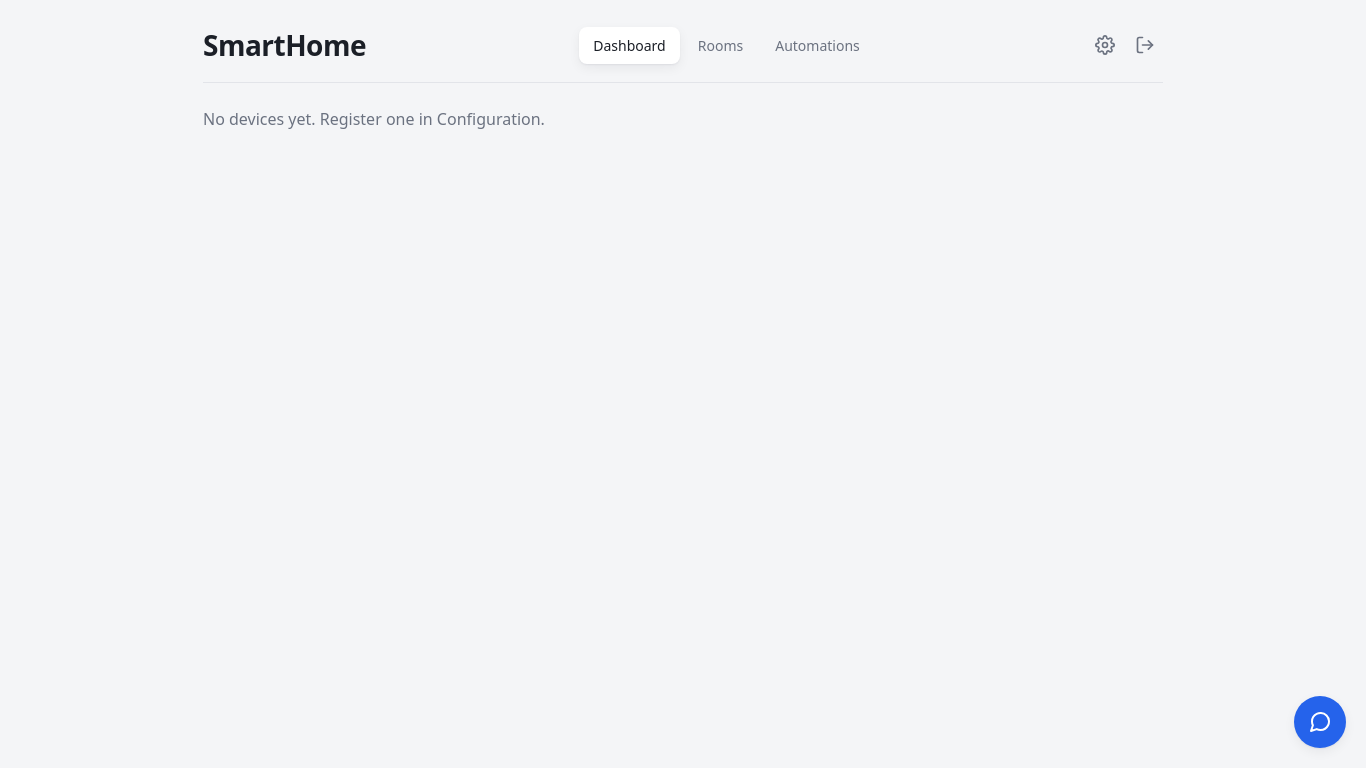
Test: App › navigates to the rooms view
The image size is (1366, 768).
Expected: the text "No devices yet. Register one in Configuration." is shown, x1=203 y1=108 x2=545 y2=130
Click the link "Rooms" at [720, 45], box x1=698 y1=36 x2=743 y2=54
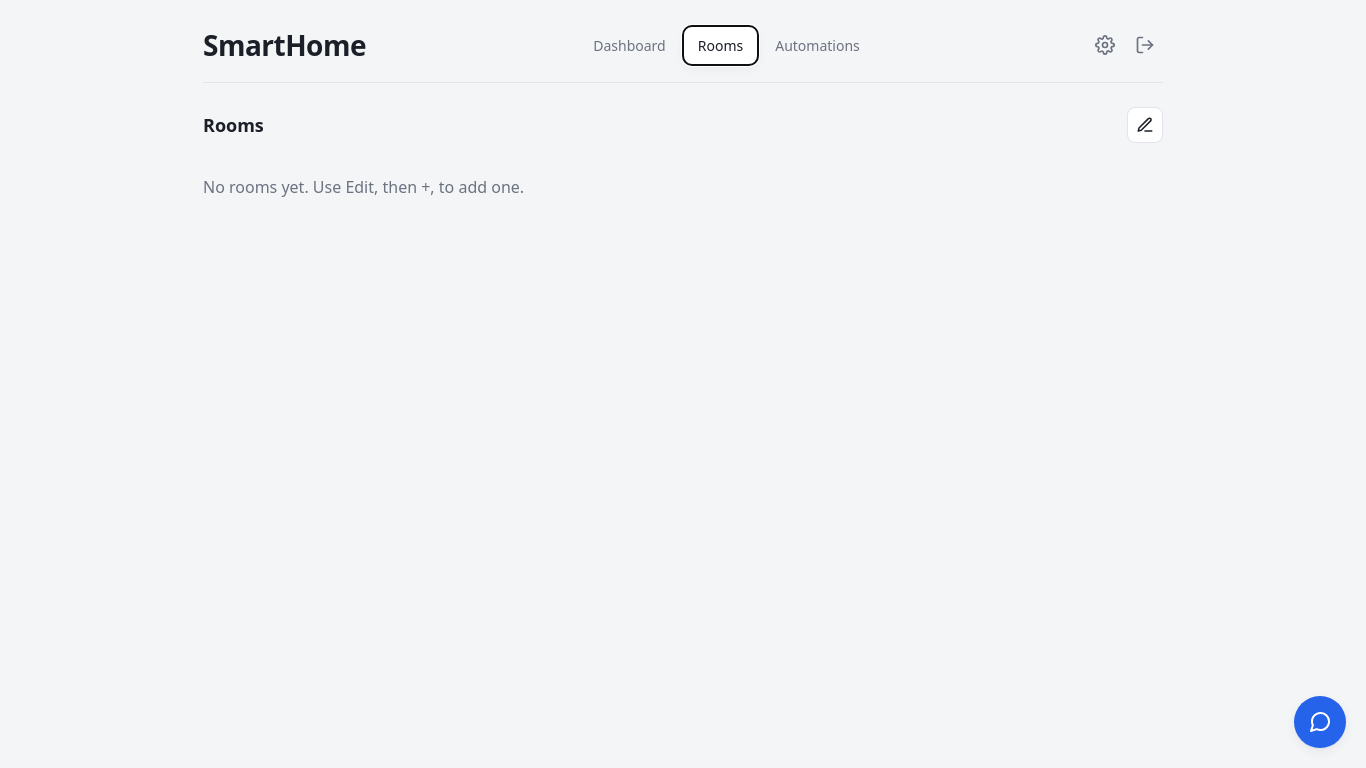
Expected: the heading "Rooms" is shown, x1=203 y1=112 x2=264 y2=138
